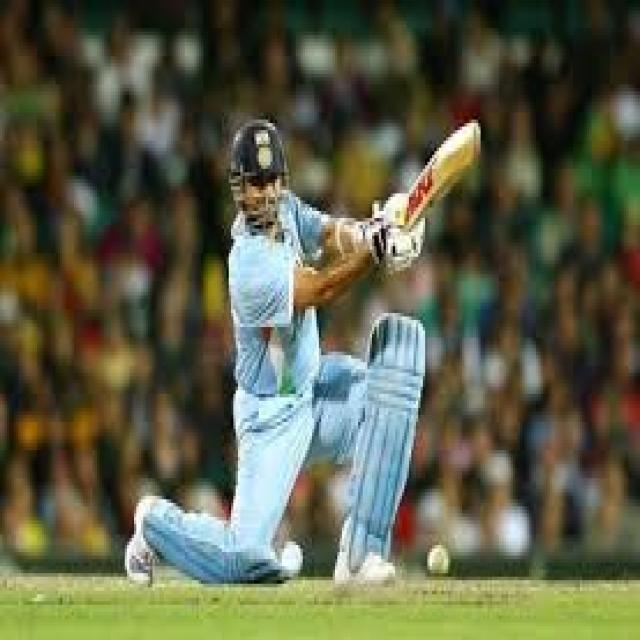toe: (439, 114, 489, 168)
